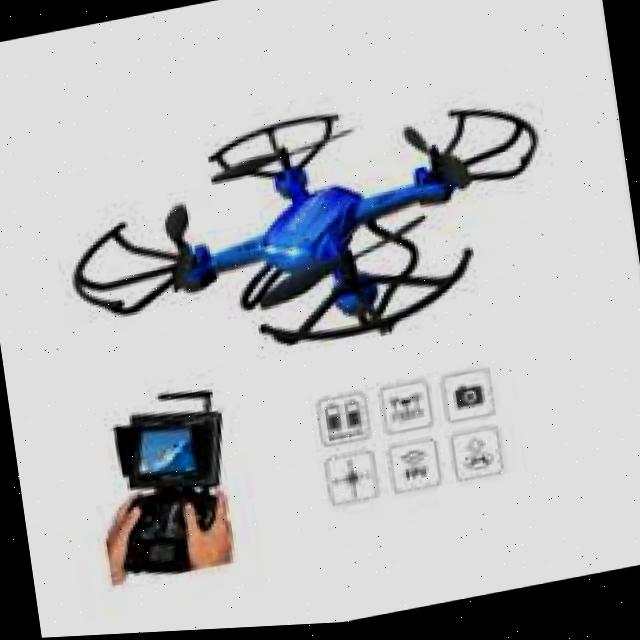drone: (29, 42, 593, 395)
